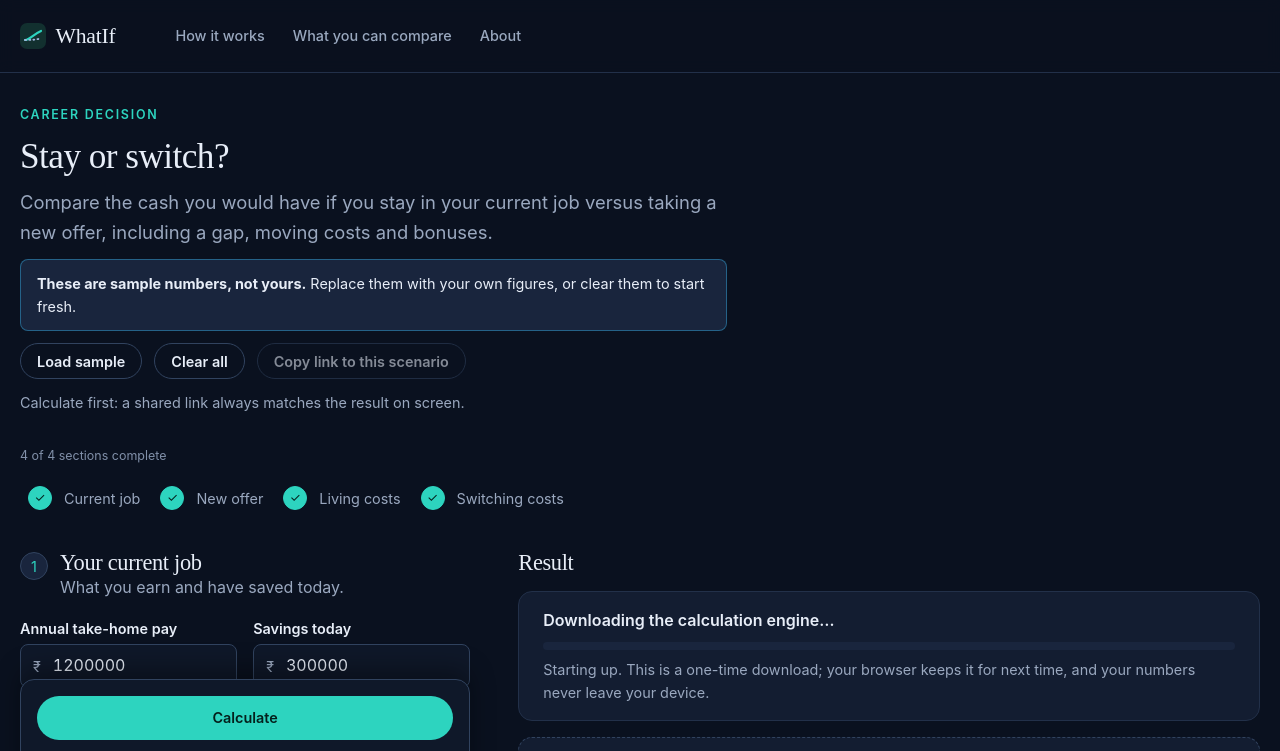
Test case: decision workspace › keeps the previous result visible but marked out of date after an edit
The width and height of the screenshot is (1280, 751).
Expected: the text "These are sample numbers, not yours." is shown, top-left (37, 275), bottom-right (306, 292)
Click the button "Calculate" at (245, 718), box top-left (37, 696), bottom-right (453, 740)
(page scrolled)
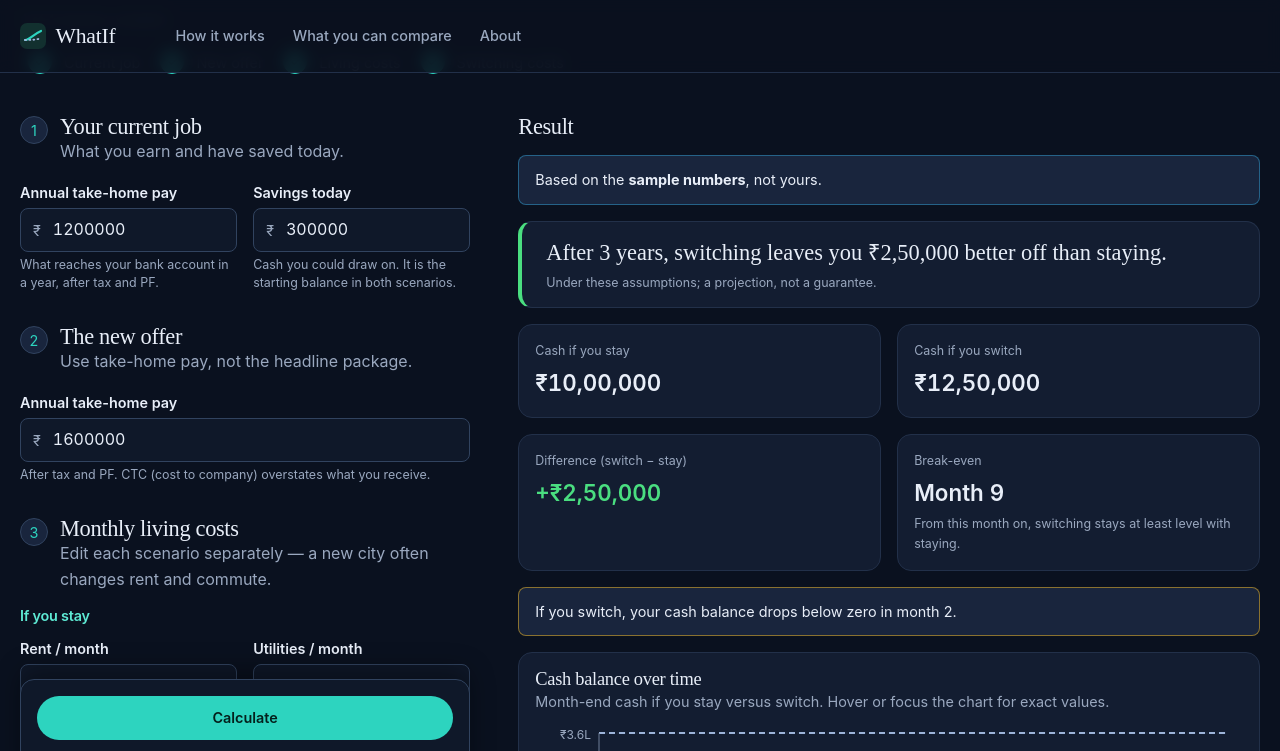
Expected: the text "These results are out of date" is not shown
Result: the text "₹2,50,000 better off" is shown at top-left (546, 240), bottom-right (1167, 264)
Type "0" into the field labelled "Annual take-home pay" below "The new offer" at (261, 440), box top-left (53, 419), bottom-right (469, 461)
(page scrolled)
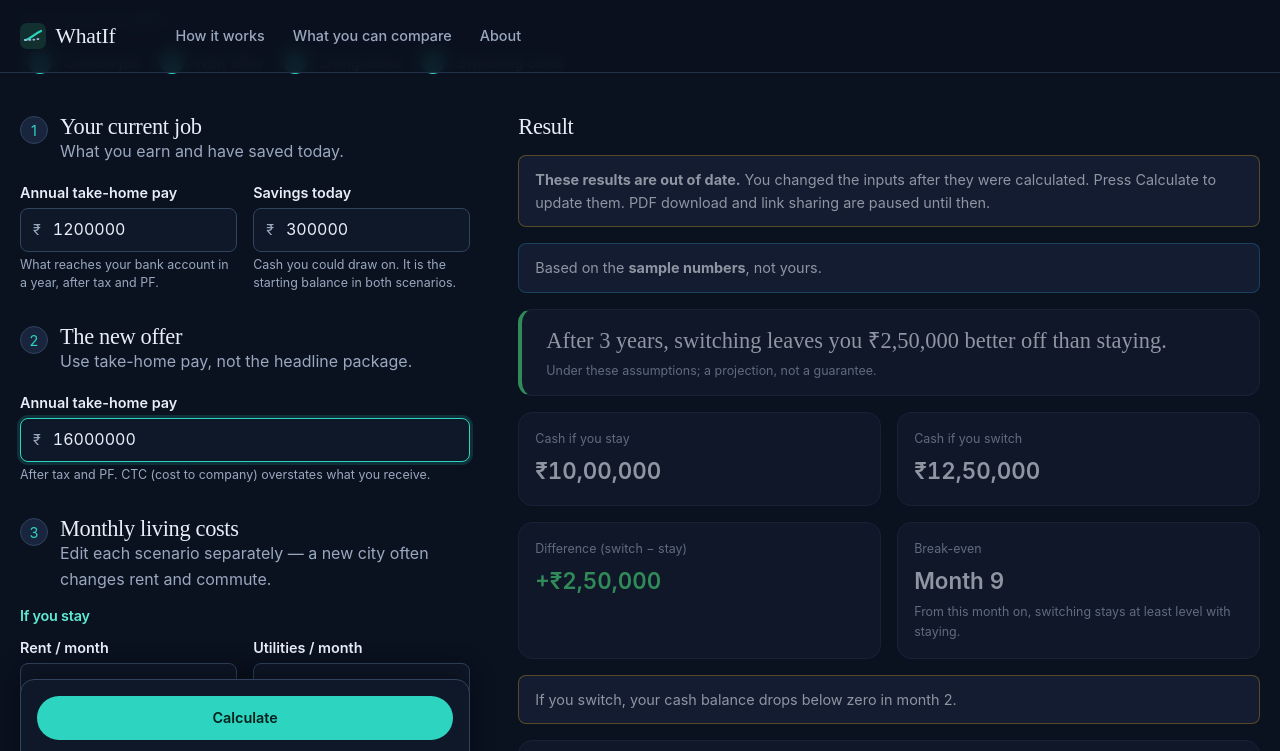
Result: the text "₹2,50,000 better off" is shown at top-left (546, 328), bottom-right (1167, 352)
Result: the text "These results are out of date." is shown at top-left (535, 171), bottom-right (740, 188)
Click the button "Calculate" at (245, 718), box top-left (37, 696), bottom-right (453, 740)
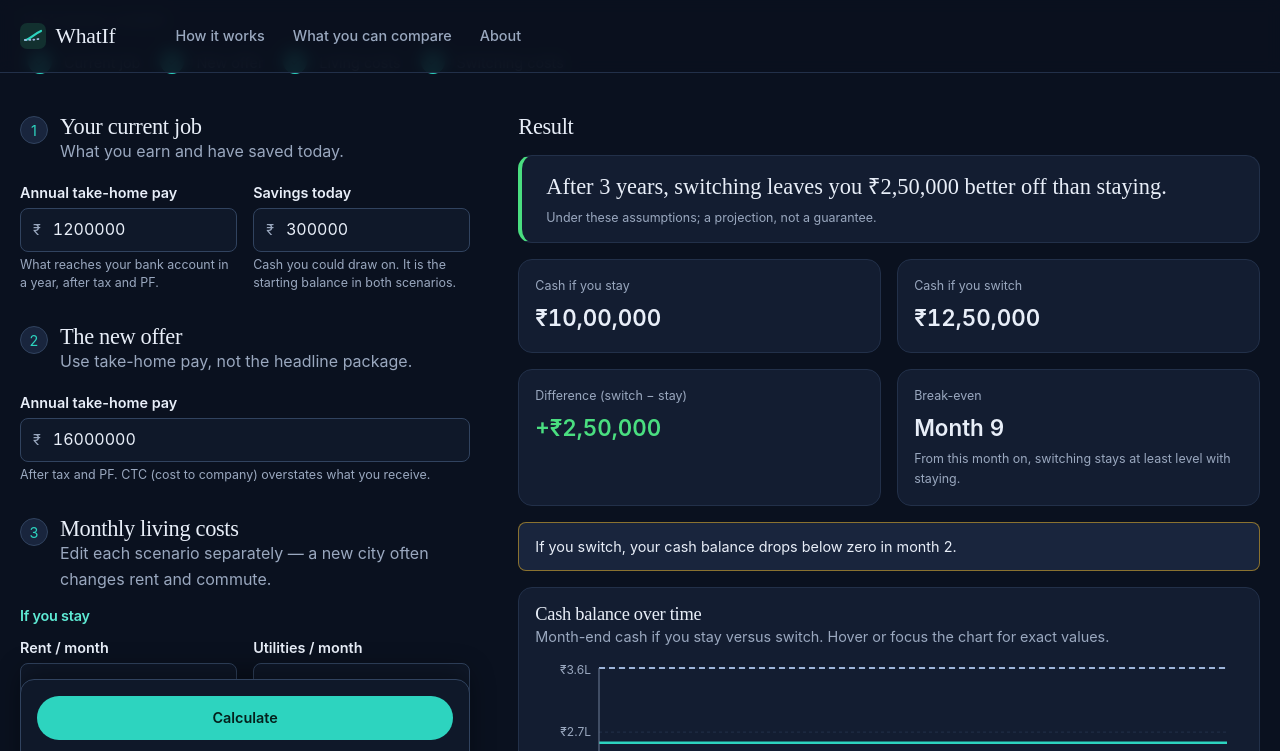
Result: the text "These results are out of date" is gone
